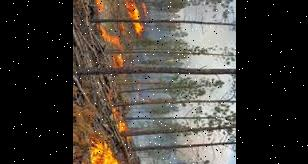fire: (93, 0, 157, 67), (72, 141, 195, 164)
